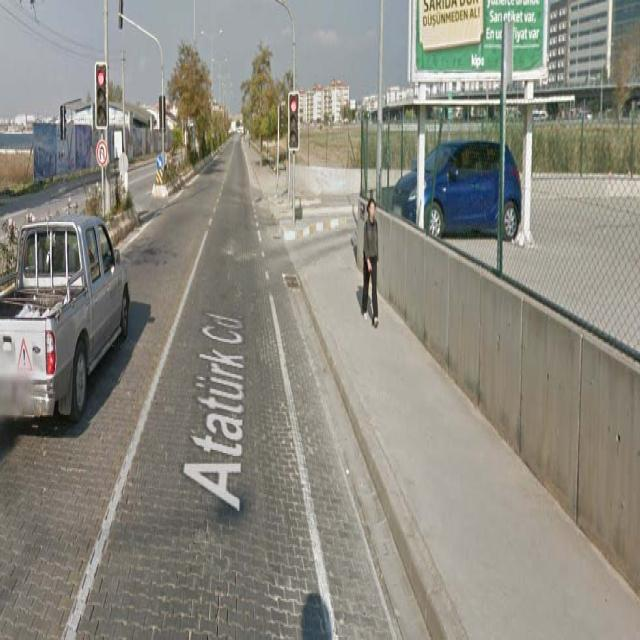kirmizi: (96, 61, 106, 132), (288, 91, 298, 148)
